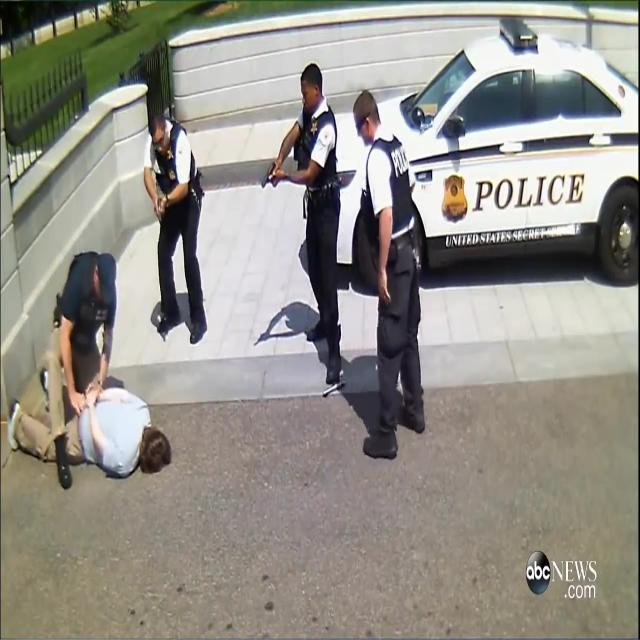Weapon: (253, 154, 288, 198), (144, 182, 182, 220)
